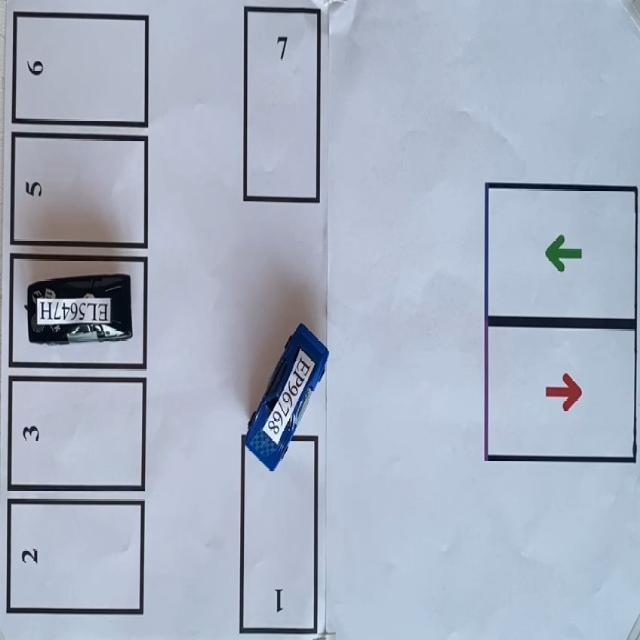car: (246, 323, 328, 470), (25, 273, 134, 343), (111, 319, 121, 323)
